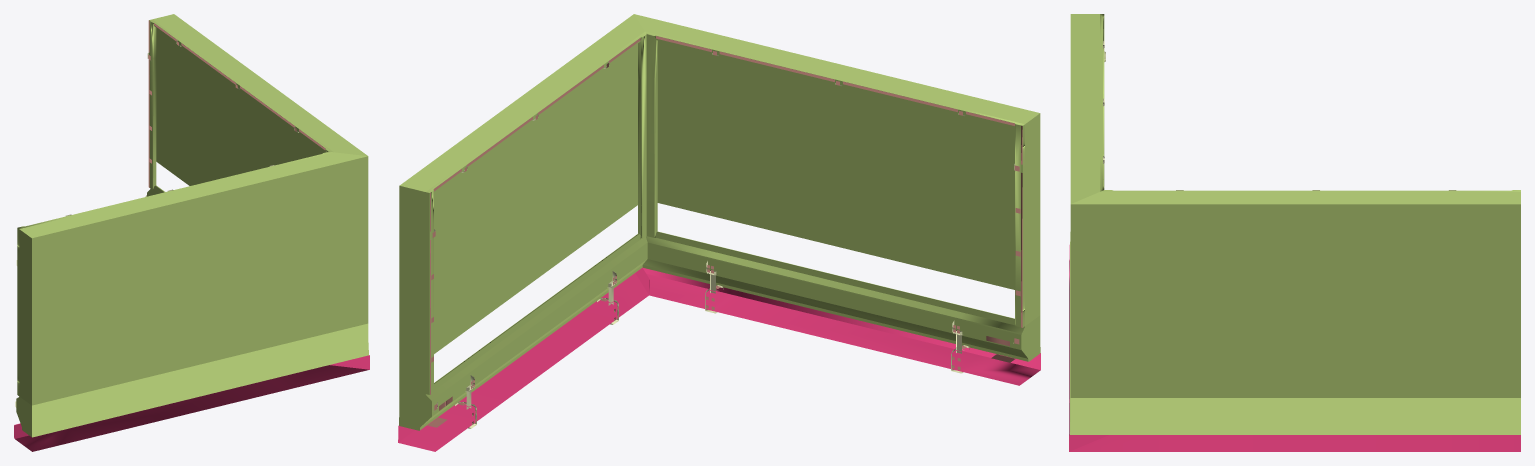
The model's file is roomslg_b_wall_corner_in_06x06x04_a.glb.
3 renders of one model, left to right at view 1: azimuth 30°, elevation 25°; view 2: azimuth 150°, elevation 25°; view 3: azimuth 270°, elevation 25°, orthographic. The views are drawn at different scales.
Bounding box in the file's own units: 6.63 × 4 × 6.63.
